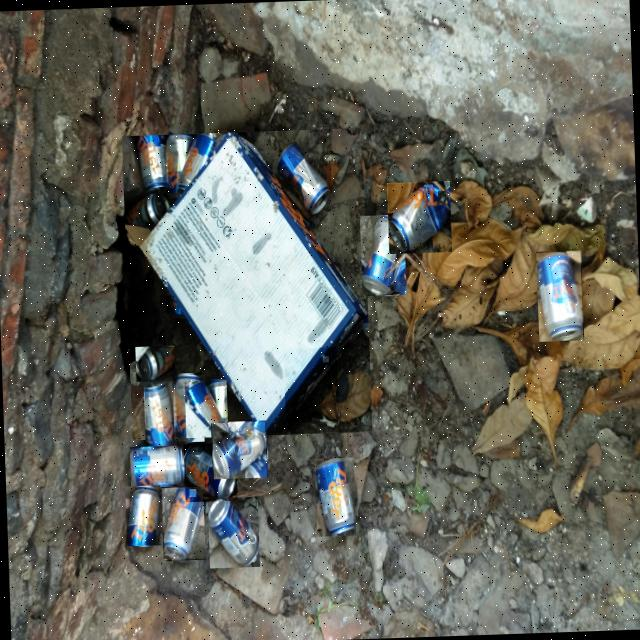Corrugated carton: (125, 133, 368, 434)
Drink can: (389, 182, 450, 253), (537, 252, 583, 341), (286, 347, 337, 422), (208, 498, 259, 566), (362, 215, 404, 294), (315, 458, 355, 535), (184, 444, 237, 501), (214, 422, 266, 478), (164, 487, 203, 559), (186, 381, 227, 437), (130, 446, 184, 487), (145, 380, 176, 448), (128, 486, 160, 545), (175, 374, 202, 442), (136, 348, 174, 381)
Pop tab: (438, 191, 446, 205), (189, 489, 196, 497), (322, 357, 328, 362), (393, 292, 399, 296)
